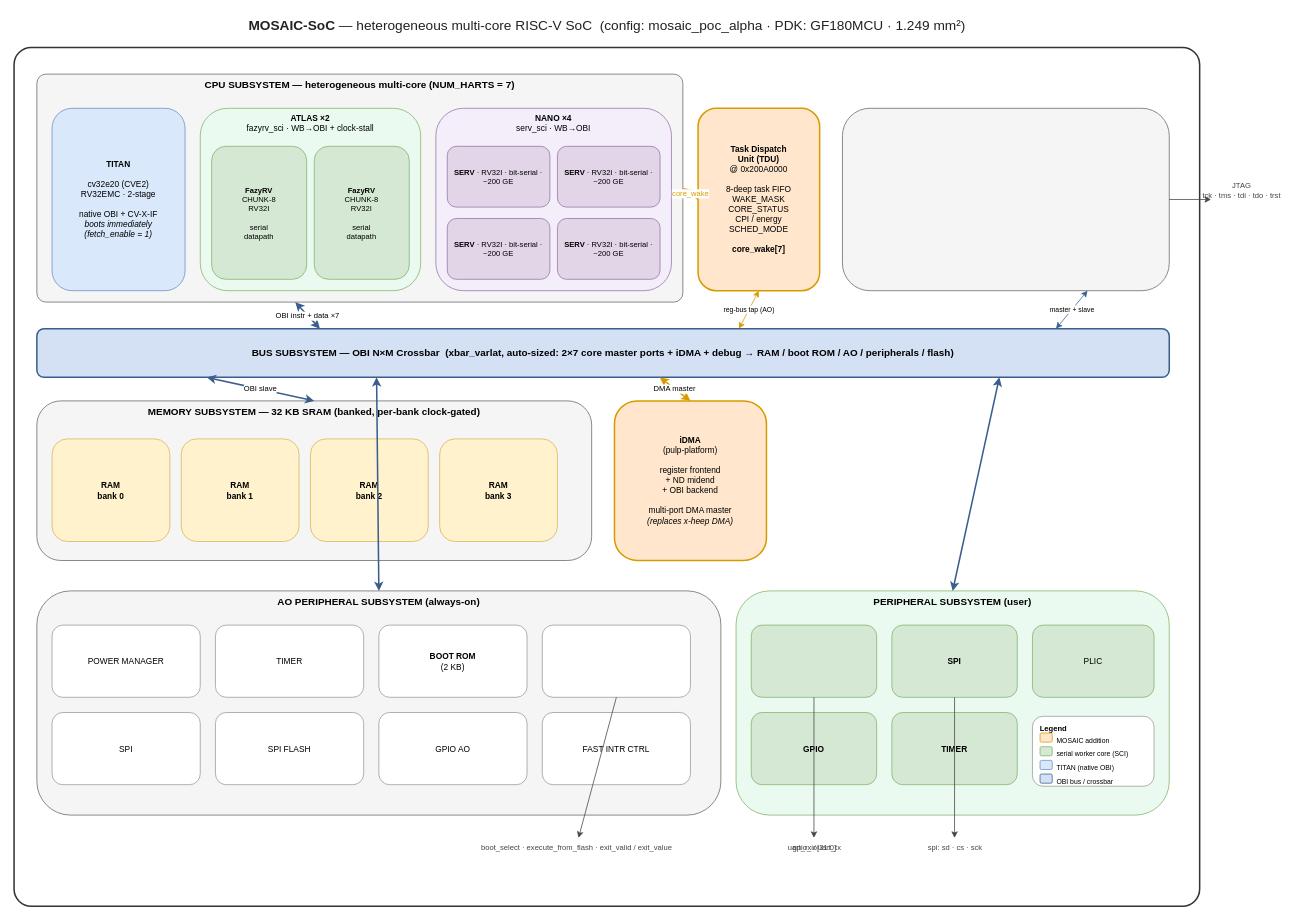
This 1294x920 diagram has some shape labels left out. The centre of each missing label's shape, as x and y in pixels:
"DEBUG SUBSYSTEM (multi-hart) dm_obi_top JTAG / SPI-slave debug_req[7]" belongs at [1005,199].
"SOC CTRL exit_value / valid" belongs at [616,660].
"UART" belongs at [813,660].
